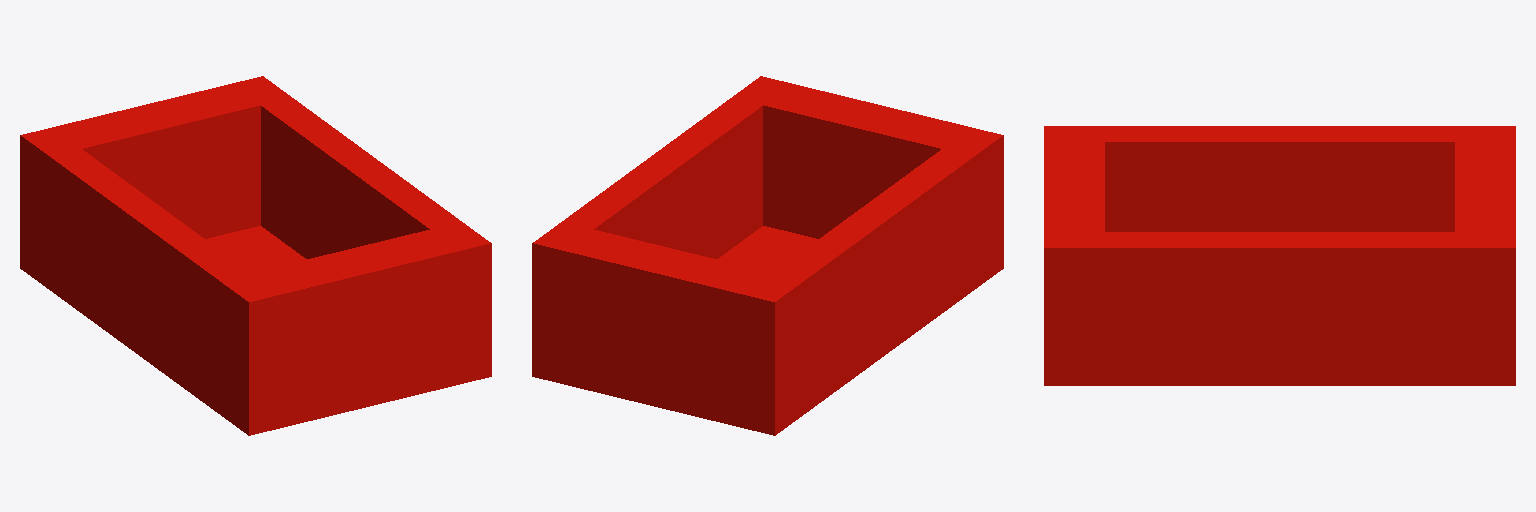
URDF robot description (order_bin):
<?xml version="1.0" ?>
<robot name="order_bin" xmlns:xacro="http://ros.org/wiki/xacro">
  
  <link name="base_link">
    <visual>
      <origin xyz="0 0 0" rpy="0 0 0" />
      <geometry>
        <box size="0.38 0.62 0.02" />
      </geometry>
      <material name="off_red">
        <color rgba="0.9 0.11 0.06 1"/>
      </material>
    </visual>
    <collision>
      <origin xyz="0 0 0" rpy="0 0 0" />
      <geometry>
        <box size="0.38 0.62 0.02" />
      </geometry>
      <material name="off_red">
        <color rgba="0.9 0.11 0.06 1"/>
      </material>
    </collision>
    <inertial>
      <origin rpy="0 0 0" xyz="0 0 0"/>
      <mass value="0.05"/>
      <inertia ixx="0" ixy="0" ixz="0" iyy="0" iyz="0" izz="0"/>
    </inertial>
  </link>

  <link name="front">
    <visual>
      <origin xyz="0 -0.27 0.1" rpy="0 0 0" />
      <geometry>
        <box size="0.38 0.08 0.18" />
      </geometry>
      <material name="off_red">
        <color rgba="0.9 0.11 0.06 1"/>
      </material>
    </visual>
    <collision>
      <origin xyz="0 -0.27 0.1" rpy="0 0 0" />
      <geometry>
        <box size="0.38 0.08 0.18" />
      </geometry>
      <material name="off_red">
        <color rgba="0.9 0.11 0.06 1"/>
      </material>
    </collision>
    <inertial>
      <origin rpy="0 0 0" xyz="0 0 0"/>
      <mass value="0.05"/>
      <inertia ixx="0" ixy="0" ixz="0" iyy="0" iyz="0" izz="0"/>
    </inertial>
  </link>

  <link name="back">
    <visual>
      <origin xyz="0 0.27 0.1" rpy="0 0 0" />
      <geometry>
        <box size="0.38 0.08 0.18" />
      </geometry>
      <material name="off_red">
        <color rgba="0.9 0.11 0.06 1"/>
      </material>
    </visual>
    <collision>
      <origin xyz="0 0.27 0.1" rpy="0 0 0" />
      <geometry>
        <box size="0.38 0.08 0.18" />
      </geometry>
      <material name="off_red">
        <color rgba="0.9 0.11 0.06 1"/>
      </material>
    </collision>
    <inertial>
      <origin rpy="0 0 0" xyz="0 0 0"/>
      <mass value="0.05"/>
      <inertia ixx="0" ixy="0" ixz="0" iyy="0" iyz="0" izz="0"/>
    </inertial>
  </link>

  <link name="left">
    <visual>
      <origin xyz="-0.165 0 0.1" rpy="0 0 0" />
      <geometry>
        <box size="0.05 0.52 0.18" />
      </geometry>
      <material name="off_red">
        <color rgba="0.9 0.11 0.06 1"/>
      </material>
    </visual>
    <collision>
      <origin xyz="-0.165 0 0.1" rpy="0 0 0" />
      <geometry>
        <box size="0.05 0.52 0.18" />
      </geometry>
      <material name="off_red">
        <color rgba="0.9 0.11 0.06 1"/>
      </material>
    </collision>
    <inertial>
      <origin rpy="0 0 0" xyz="0 0 0"/>
      <mass value="0.05"/>
      <inertia ixx="0" ixy="0" ixz="0" iyy="0" iyz="0" izz="0"/>
    </inertial>
  </link>

  <link name="right">
    <visual>
      <origin xyz="0.165 0 0.1" rpy="0 0 0" />
      <geometry>
        <box size="0.05 0.52 0.18" />
      </geometry>
      <material name="off_red">
        <color rgba="0.9 0.11 0.06 1"/>
      </material>
    </visual>
    <collision>
      <origin xyz="0.165 0 0.1" rpy="0 0 0" />
      <geometry>
        <box size="0.05 0.52 0.18" />
      </geometry>
      <material name="off_red">
        <color rgba="0.9 0.11 0.06 1"/>
      </material>
    </collision>
    <inertial>
      <origin rpy="0 0 0" xyz="0 0 0"/>
      <mass value="0.05"/>
      <inertia ixx="0" ixy="0" ixz="0" iyy="0" iyz="0" izz="0"/>
    </inertial>
  </link>

<!-- Joints -->

  <joint name="fix_front" type="fixed">
    <origin xyz="0.0 0.0 0.0" rpy="0 0 0" />
    <axis xyz="0 0 0" />
    <parent link="base_link" />
    <child link="front" />
  </joint>

  <joint name="fix_back" type="fixed">
    <origin xyz="0.0 0.0 0.0" rpy="0 0 0" />
    <axis xyz="0 0 0" />
    <parent link="base_link" />
    <child link="back" />
  </joint>

  <joint name="fix_left" type="fixed">
    <origin xyz="0.0 0.0 0.0" rpy="0 0 0" />
    <axis xyz="0 0 0" />
    <parent link="base_link" />
    <child link="left" />
  </joint>

  <joint name="fix_right" type="fixed">
    <origin xyz="0.0 0.0 0.0" rpy="0 0 0" />
    <axis xyz="0 0 0" />
    <parent link="base_link" />
    <child link="right" />
  </joint>

</robot>

--- What the picture shows (computed from the rendered views, not written in the file) ---
3 views of the same robot in one strip: view 1: azimuth 30°, elevation 25°; view 2: azimuth 150°, elevation 25°; view 3: azimuth 270°, elevation 25° (orthographic).
Robot: order_bin — 5 links, 4 joints (4 fixed); root link base_link; default pose: every joint at zero.
Visible links, largest first — view 1: front, left, back, right, base_link; view 2: back, left, front, right, base_link; view 3: right, left, back, front, base_link.
Boxes of the visible links, x1,y1,x2,y2 form: front: (219,222,491,422); left: (42,141,258,405); back: (20,76,290,275); right: (250,90,470,258); base_link: (20,226,491,435); back: (532,222,804,422); left: (767,141,983,406); front: (732,76,1003,276); right: (551,90,773,258); base_link: (532,226,1003,435); right: (1082,232,1477,371); left: (1082,126,1477,231); back: (1455,126,1515,371); front: (1044,126,1104,371); base_link: (1044,372,1515,385).
Bounding box of the posed robot: 0.38 × 0.62 × 0.2 m (x, y, z).
Geometry: primitives only (box / cylinder / sphere), no mesh files.